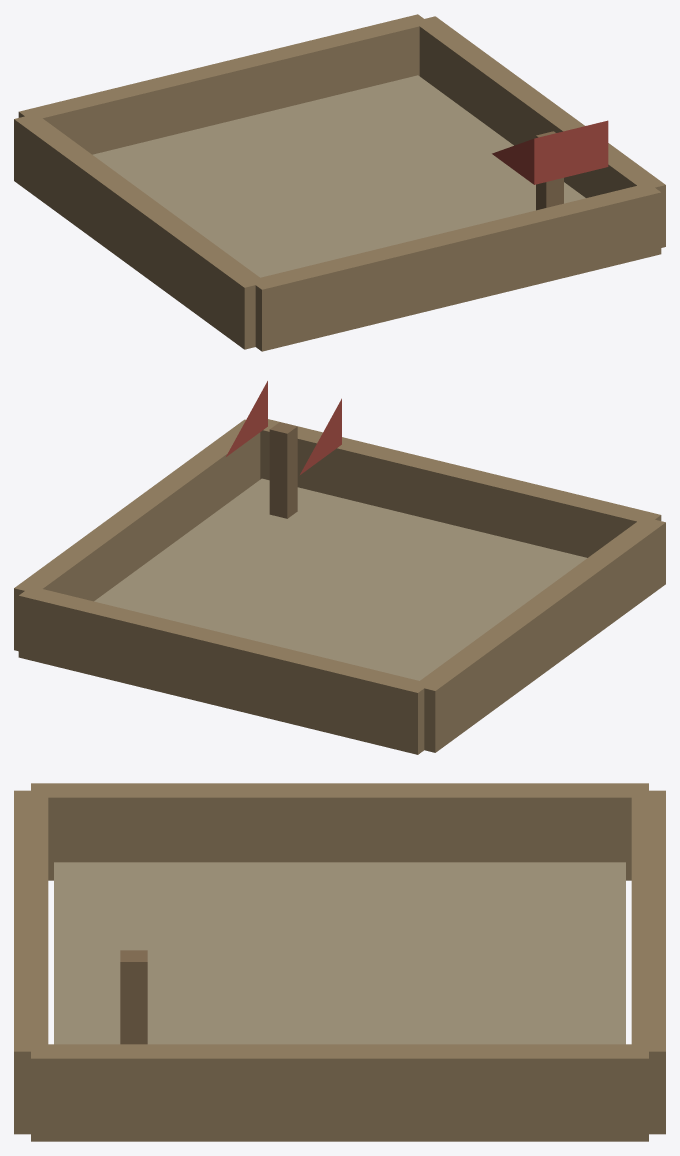
The model's file is p_sandbox.glb.
3 renders of one model, top to bottom at view 1: azimuth 30°, elevation 25°; view 2: azimuth 150°, elevation 25°; view 3: azimuth 270°, elevation 25°, orthographic. The views are drawn at different scales.
Parts seen in each view (by area): view 1: body; view 2: body; view 3: body.
Part boxes in pixels (x1=…): body: x1=14, y1=14, x2=665, y2=351; body: x1=14, y1=381, x2=665, y2=754; body: x1=14, y1=783, x2=665, y2=1141.
Bounding box in the file's own units: 2.85 × 0.8 × 2.85.
